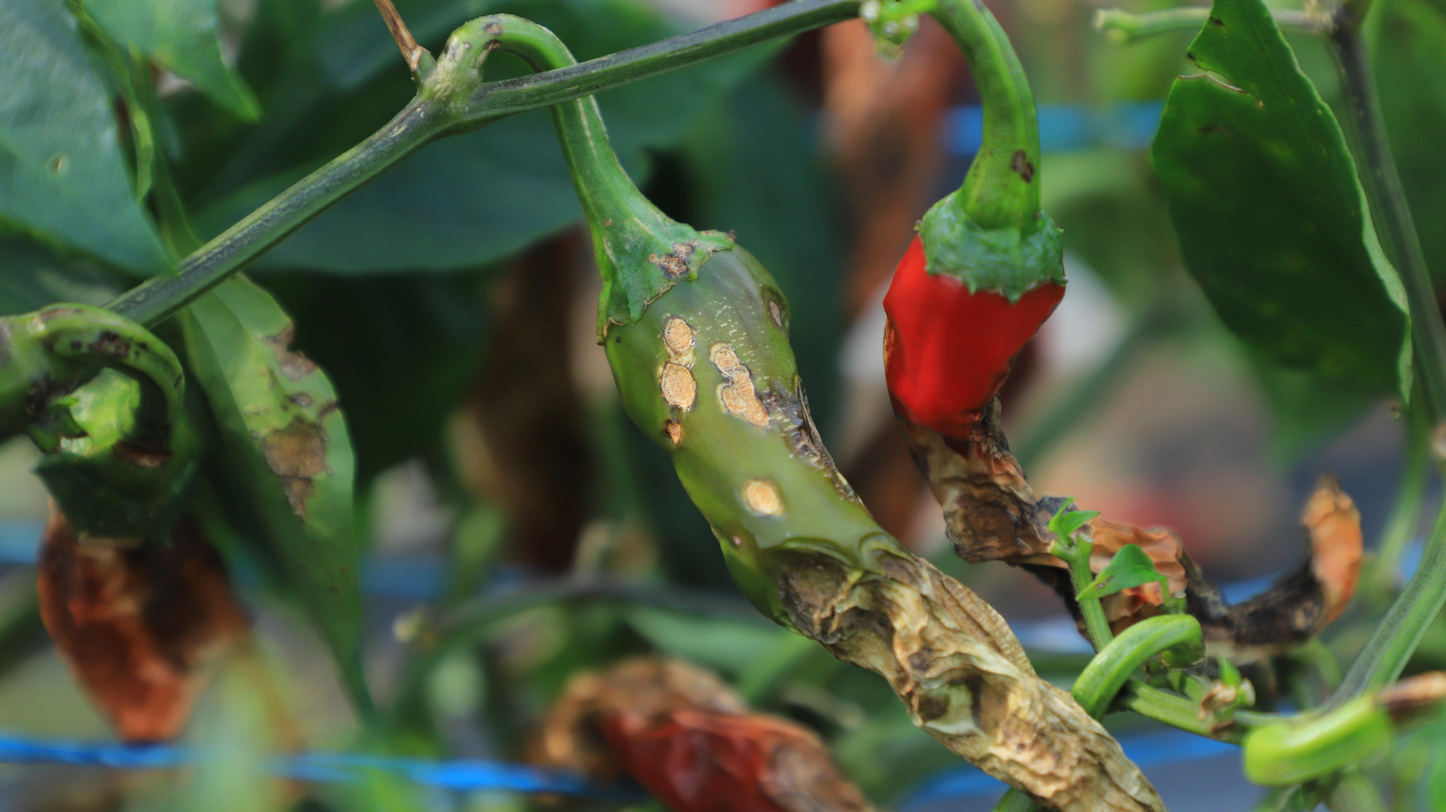Busuk Buah Antraknosa: (603, 210, 1174, 810), (879, 203, 1357, 667)
